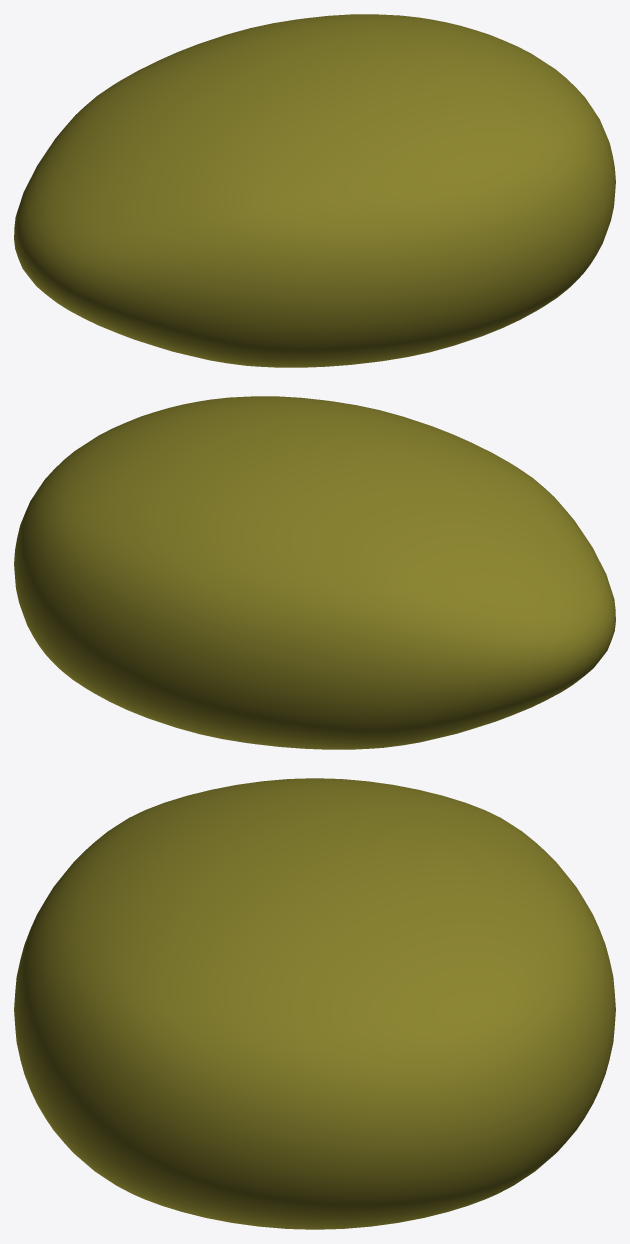
Rendered from LV1_Tomato_Seed.obj.
3 views of the same model, one above another, from view 1: azimuth 30°, elevation 25°; view 2: azimuth 150°, elevation 25°; view 3: azimuth 270°, elevation 25° (orthographic). The views are drawn at different scales.
Visible parts, largest first — view 1: LV1_Tomato; view 2: LV1_Tomato; view 3: LV1_Tomato.
Part boxes in pixels (x1=…): LV1_Tomato: x1=14, y1=14, x2=615, y2=367; LV1_Tomato: x1=14, y1=396, x2=615, y2=749; LV1_Tomato: x1=14, y1=778, x2=615, y2=1229.
Bounding box in the file's own units: 2.05 × 0.9355 × 1.6.
